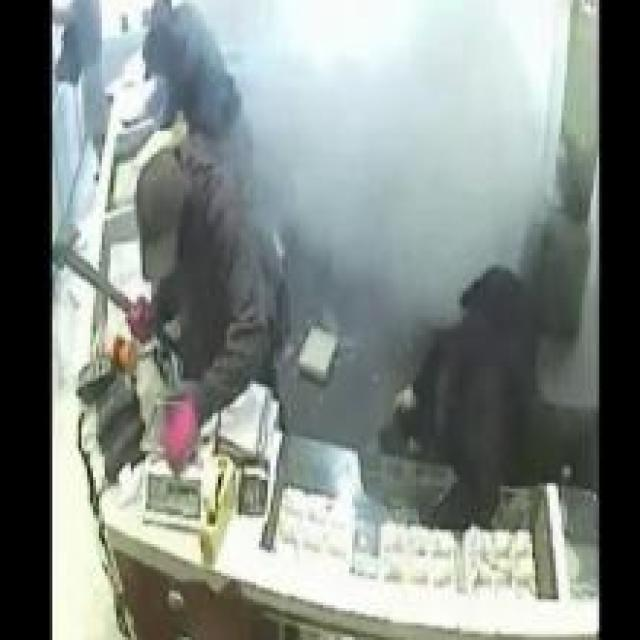fire: (218, 0, 532, 329)
